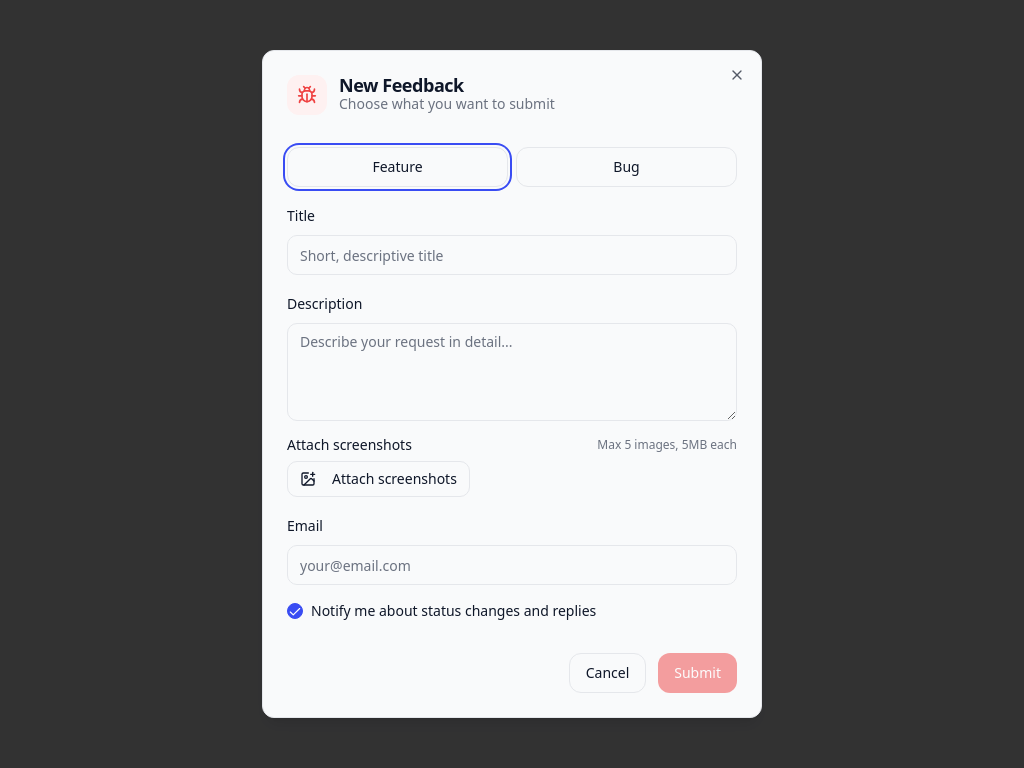
Test: CreateFeedbackDialog › supports choosing feature or bug inside the dialog when no initial type is provided
Check: the heading "New Feedback" is shown, box left=339, top=73, right=464, bottom=97
Check: the button "Feature" is shown, box left=287, top=147, right=508, bottom=187
Click the button "Bug" at (626, 167), box left=516, top=147, right=737, bottom=187
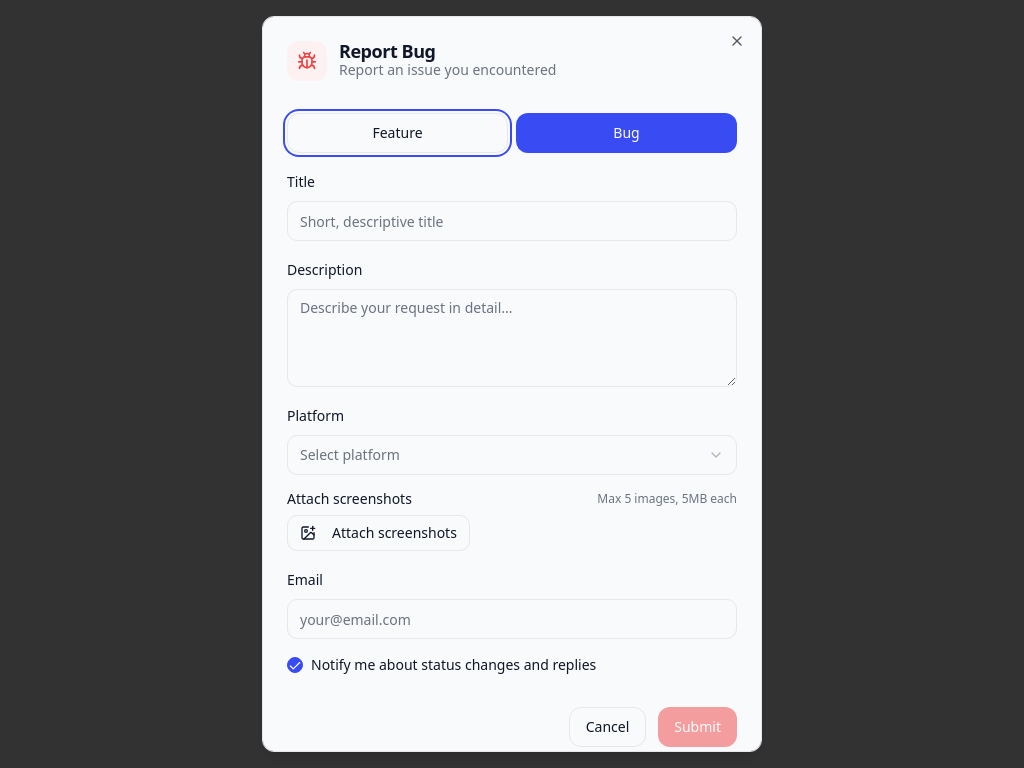
Check: the heading "Report Bug" is shown, box left=339, top=39, right=436, bottom=63
Check: the dropdown is shown, box left=287, top=435, right=737, bottom=475
